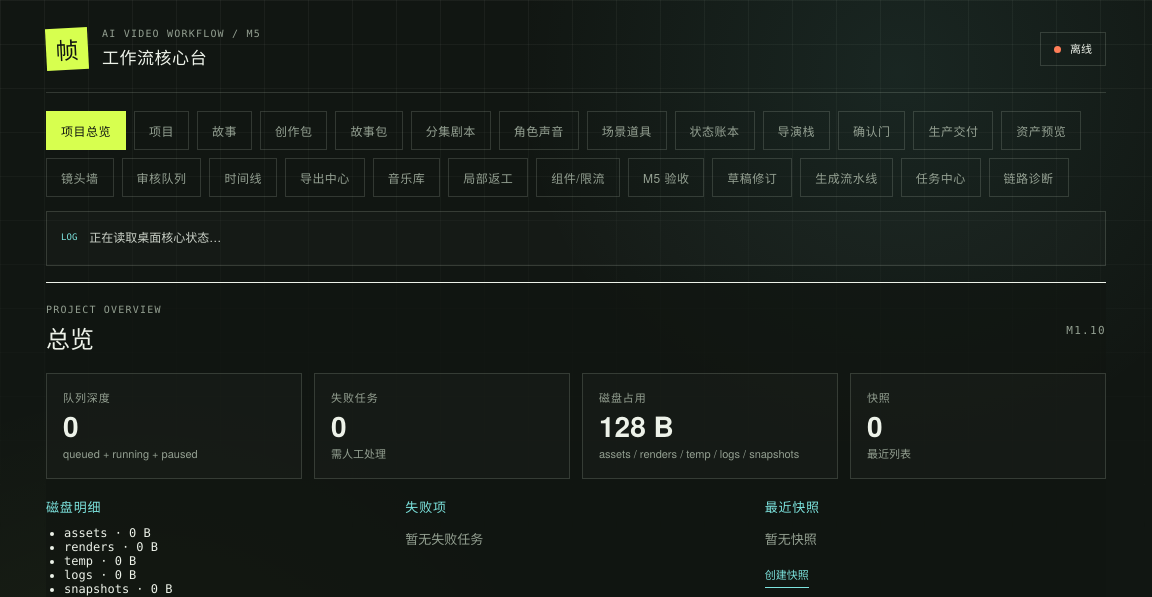
M1 shell › creates locations props spatial links and confirms core pack
Click the button "场景道具" at {"x": 627, "y": 130}, box [587,111,667,150]
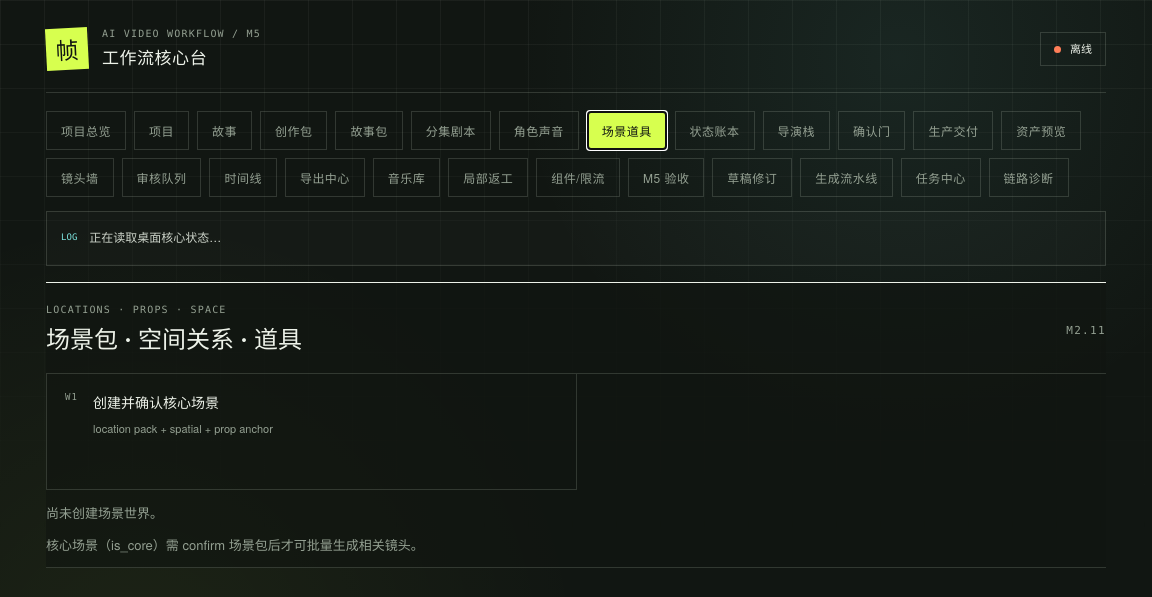
Click the button with aria-label "创建样例场景与道具" at {"x": 156, "y": 402}, box [47,374,576,490]
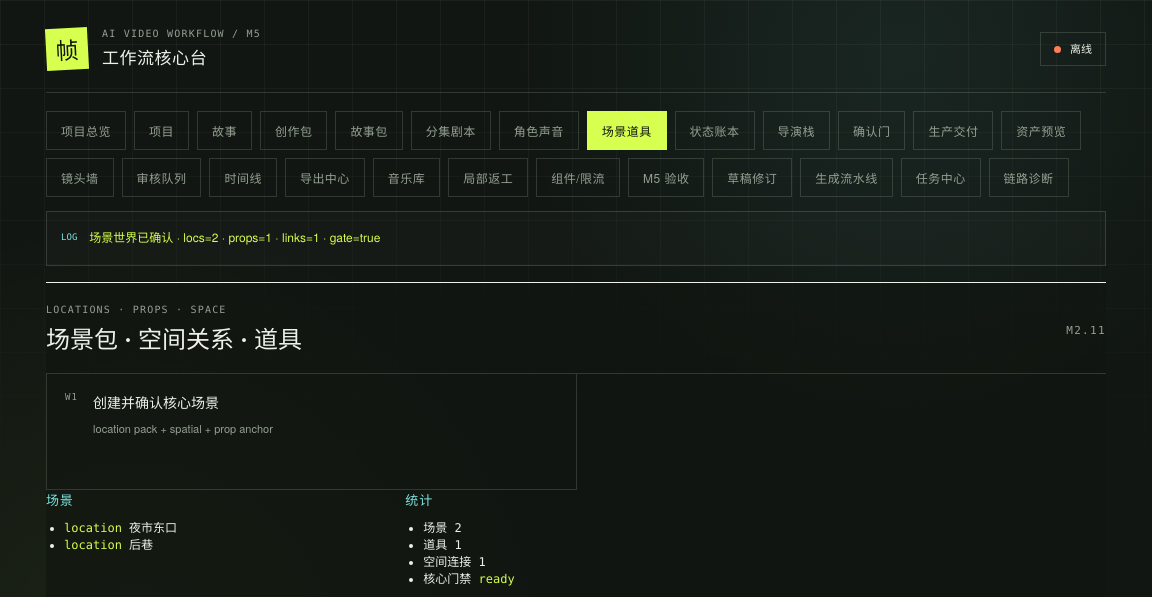
Expected: the text "场景世界已确认 · locs=2 · props=1 · links=1 · gate=true" is shown, [89,229,380,248]
Expected: the list named "场景列表" shows "夜市东口", [129,521,177,535]
Expected: the list named "场景统计" shows "道具 1", [423,521,515,586]
